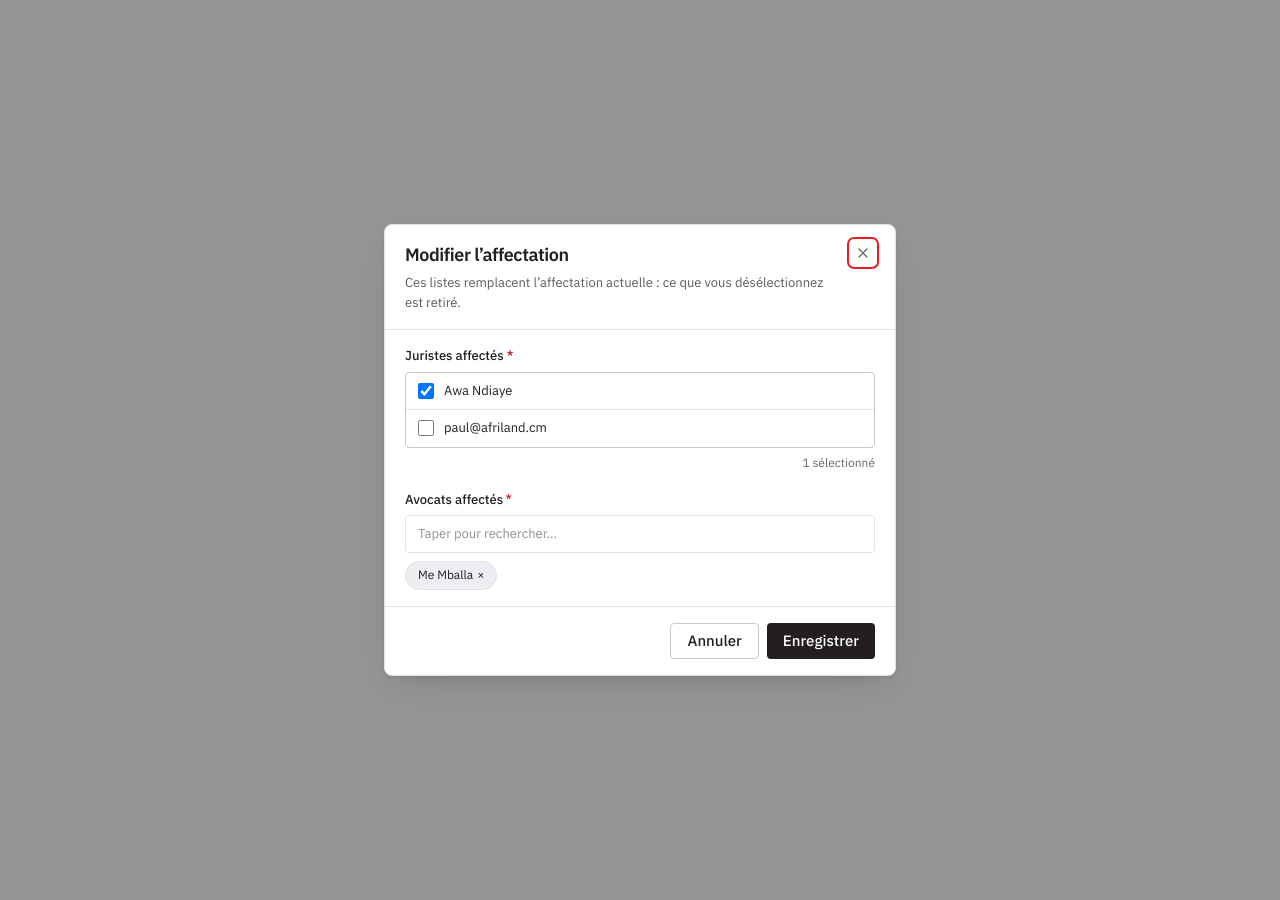
ModaleAffectation › affiche toute autre erreur dans la modale
Click the button "Enregistrer" at (821, 641), box [767, 623, 875, 659]
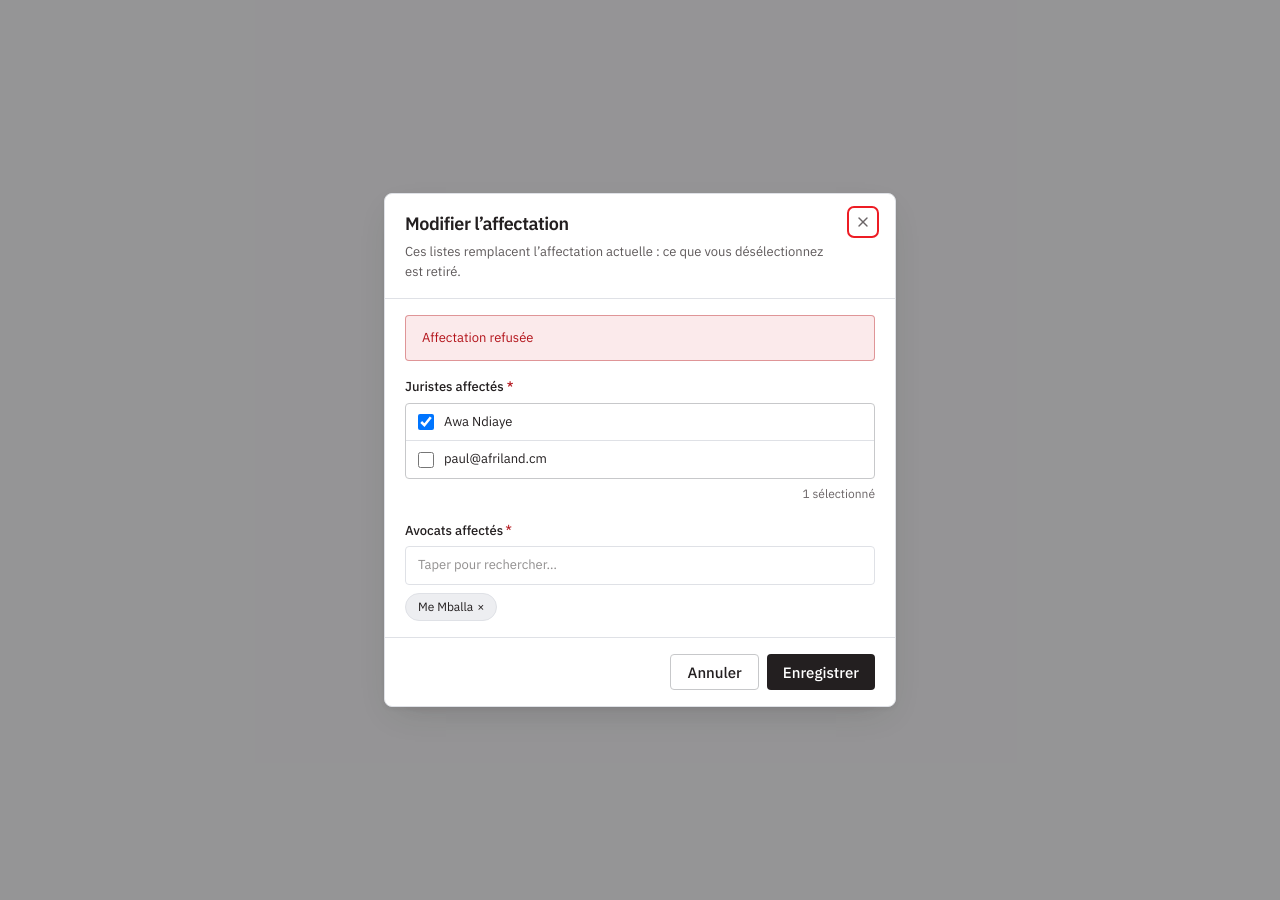
Expected: the text "Affectation refusée" is shown, [405, 315, 875, 361]
